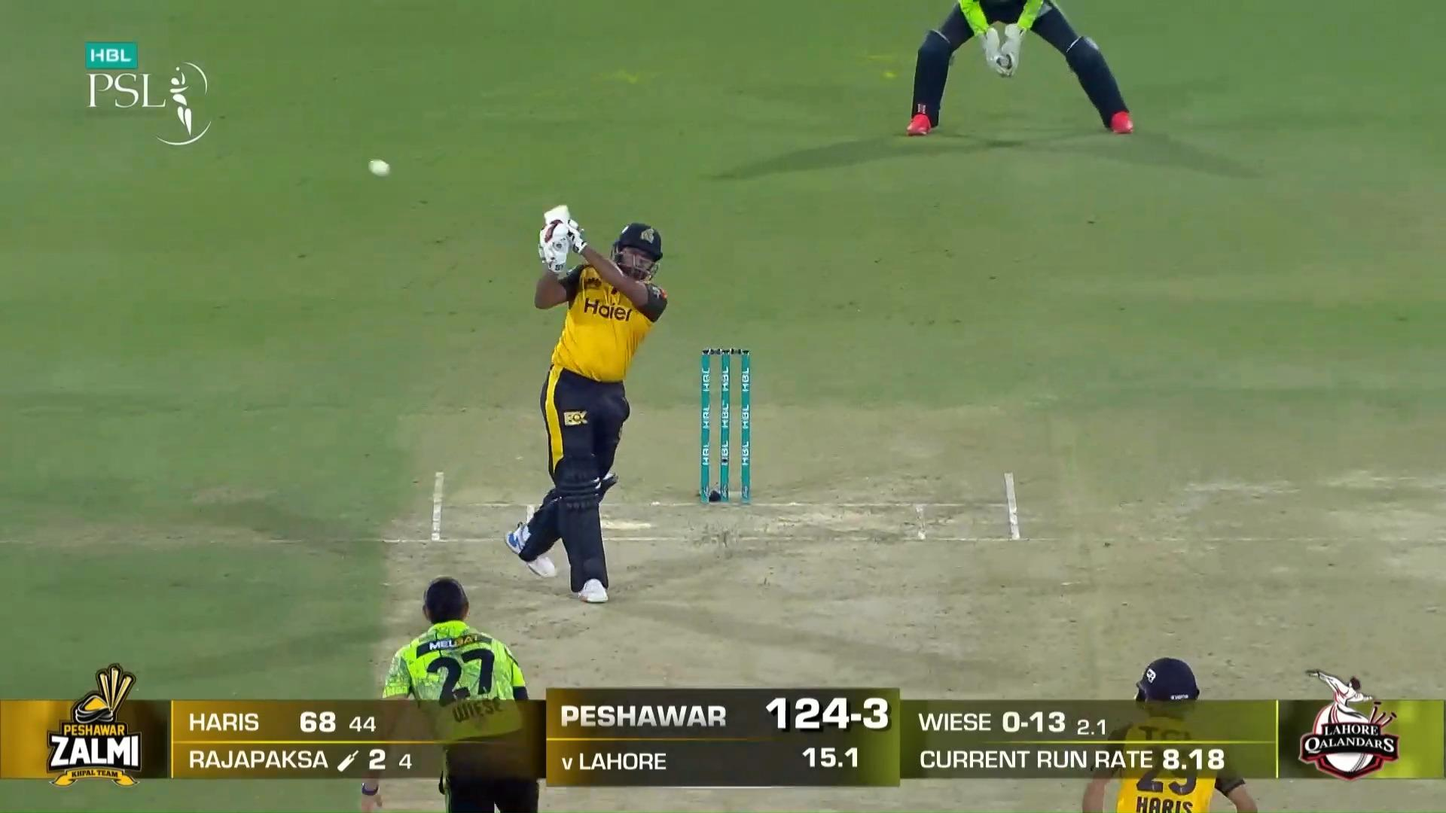batsman: (505, 201, 669, 606)
